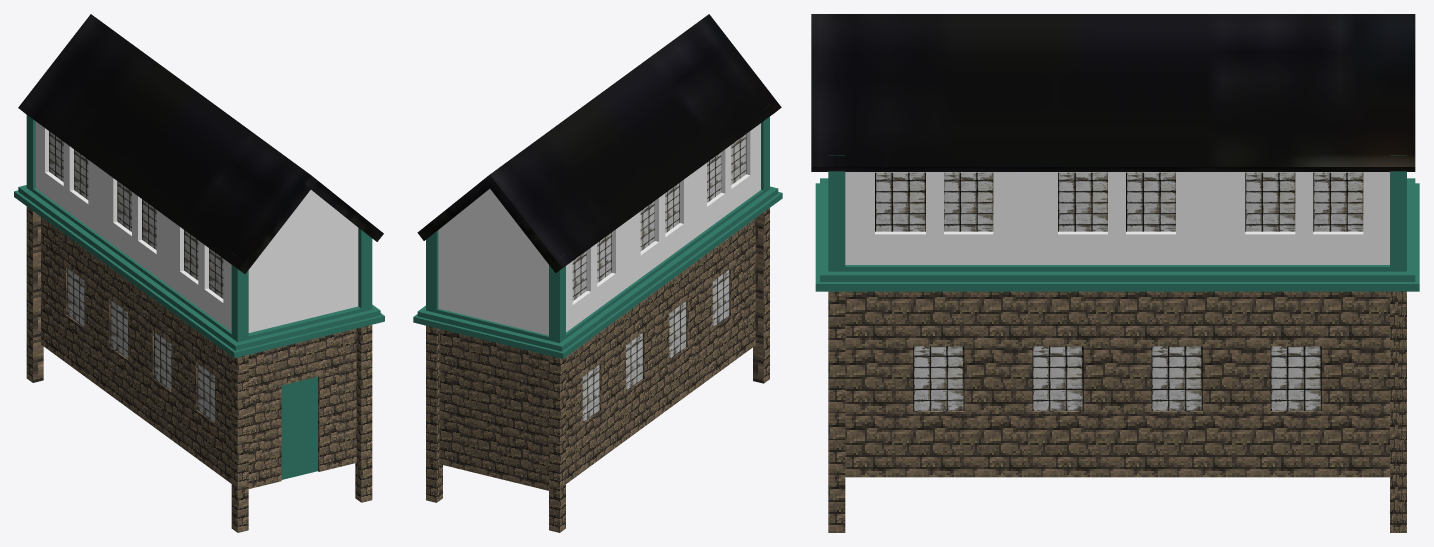
The model's file is signal_box_long.obj.
The picture shows the model from 3 angles, left to right: view 1: azimuth 30°, elevation 25°; view 2: azimuth 150°, elevation 25°; view 3: azimuth 270°, elevation 25°; orthographic projection. The views are drawn at different scales.
Parts seen in each view (by area): view 1: cube; view 2: cube; view 3: cube.
Part boxes in pixels (box(x1,y1,x2,y2)): cube: box(14, 14, 384, 532); cube: box(413, 14, 782, 532); cube: box(811, 14, 1419, 532).
Bounding box in the file's own units: 3.5 × 7.68 × 8.94.
